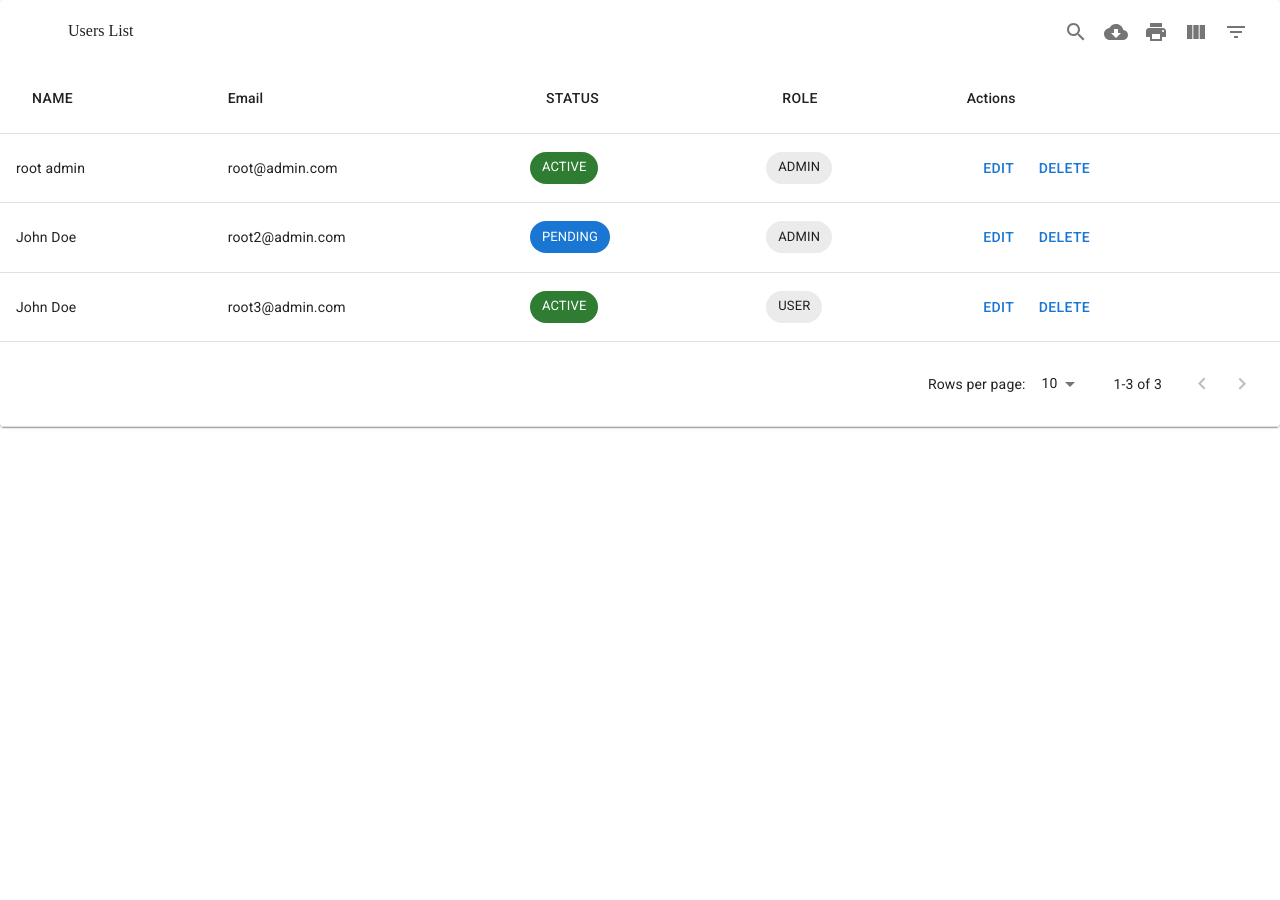
<UserTable /> › should render edit review modal
Click the button with test id "editButton" at x=999, y=168, box [967, 150, 1031, 186]
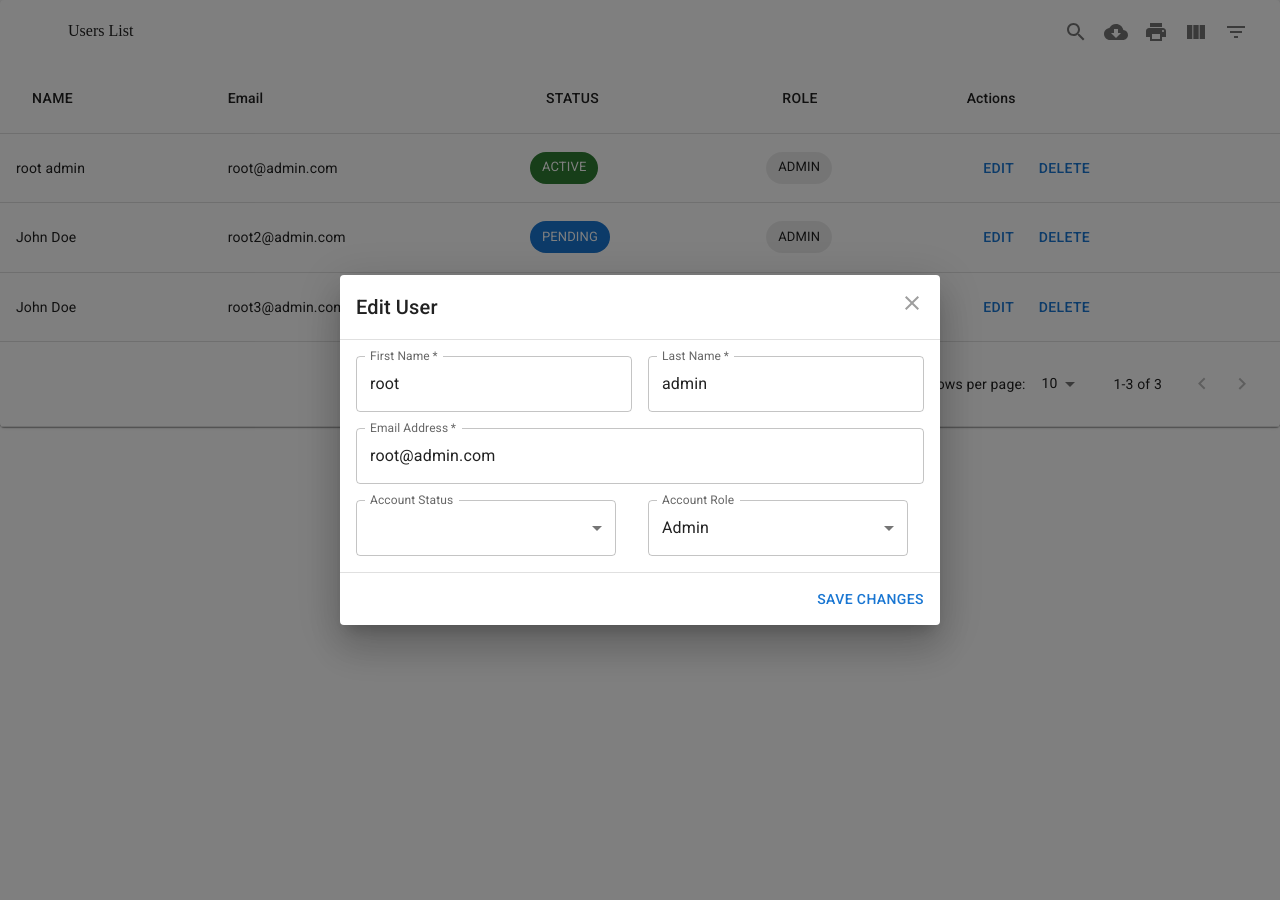
Check: the dialog is shown, box [340, 275, 940, 625]
